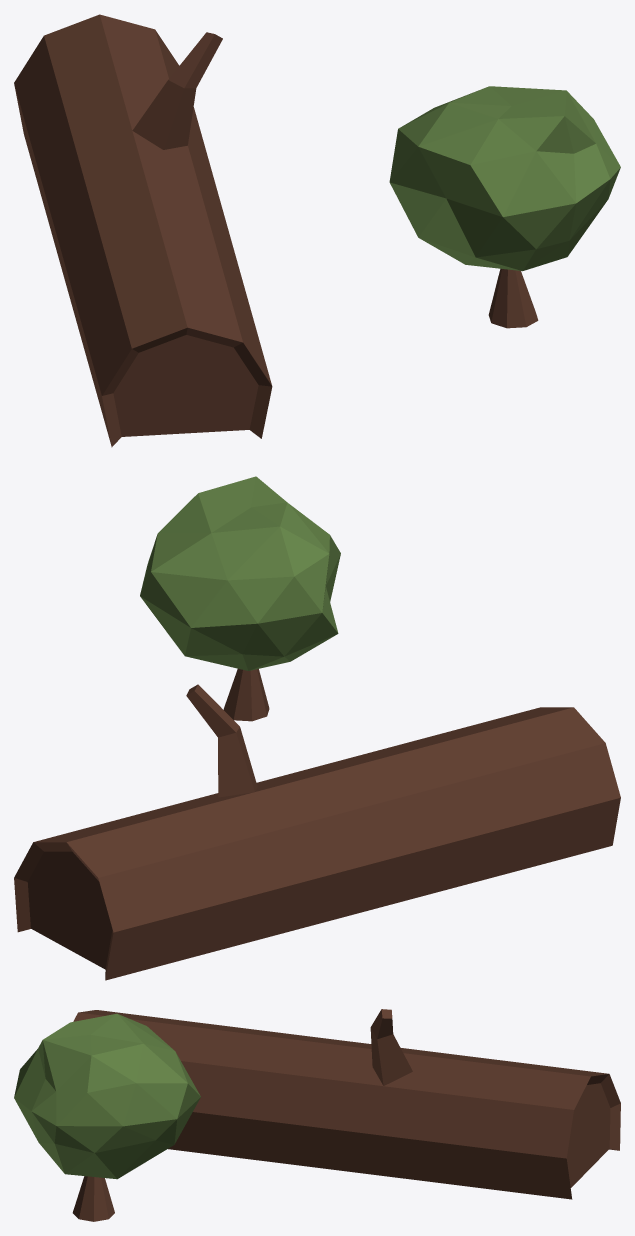
The model's file is PlantS-2.fbx.
3 renders of one model, top to bottom at view 1: azimuth 30°, elevation 25°; view 2: azimuth 150°, elevation 25°; view 3: azimuth 270°, elevation 25°, orthographic. The views are drawn at different scales.
Parts seen in each view (by area): view 1: PlantL-2; view 2: PlantL-2; view 3: PlantL-2.
Boxes of the visible parts, x1=… form: PlantL-2: x1=14, y1=14, x2=620, y2=447; PlantL-2: x1=14, y1=476, x2=620, y2=980; PlantL-2: x1=14, y1=1009, x2=620, y2=1221.
Bounding box in the file's own units: 134 × 67.7 × 174.
